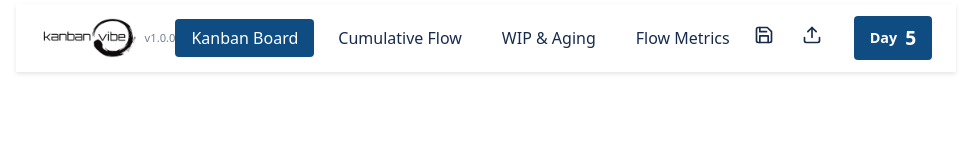
NavigationBar Component › closes one dropdown when opening another
Click the button named "Save options": (764, 38) [746,18,782,58]
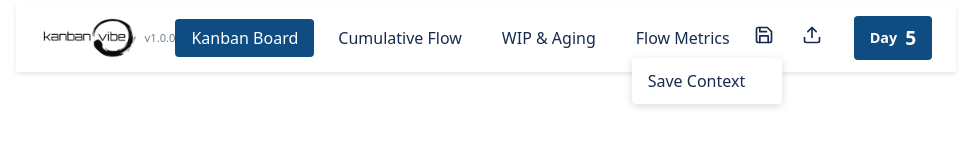
Result: the button "Save Context" is shown at [632,58,782,104]
Click the button named "Import options": (812, 38) [794,18,830,58]
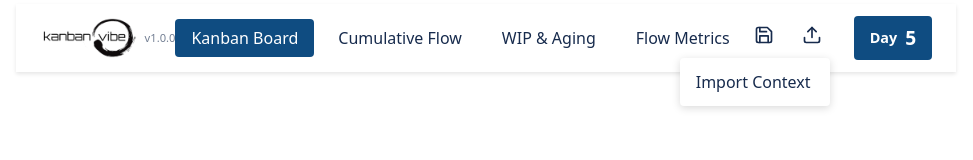
Result: the button "Save Context" is gone
Result: the file field "Import Context" is shown at [696,72,811,94]
